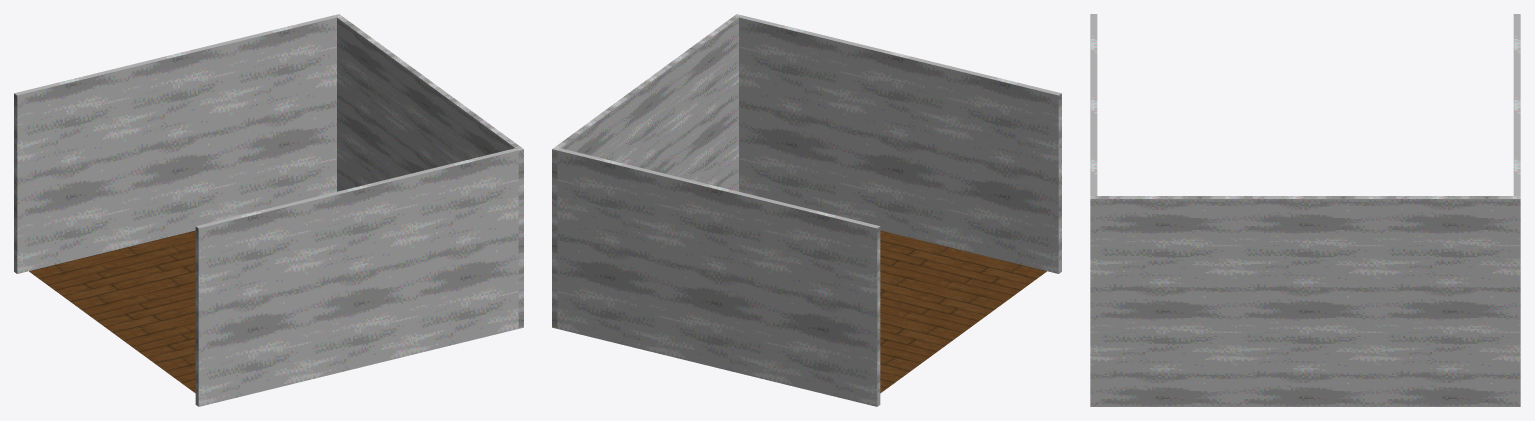
File: Room1fbx.fbx
The picture shows the model from 3 angles, left to right: view 1: azimuth 30°, elevation 25°; view 2: azimuth 150°, elevation 25°; view 3: azimuth 270°, elevation 25°; orthographic projection. The views are drawn at different scales.
Parts seen in each view (by area): view 1: Cube.022; view 2: Cube.022; view 3: Cube.022.
Boxes of the visible parts, box(x1,y1,x2,y2) form: Cube.022: box(14, 14, 523, 406); Cube.022: box(552, 14, 1061, 406); Cube.022: box(1090, 14, 1520, 406).
Bounding box in the file's own units: 3050 × 1600 × 3000.
